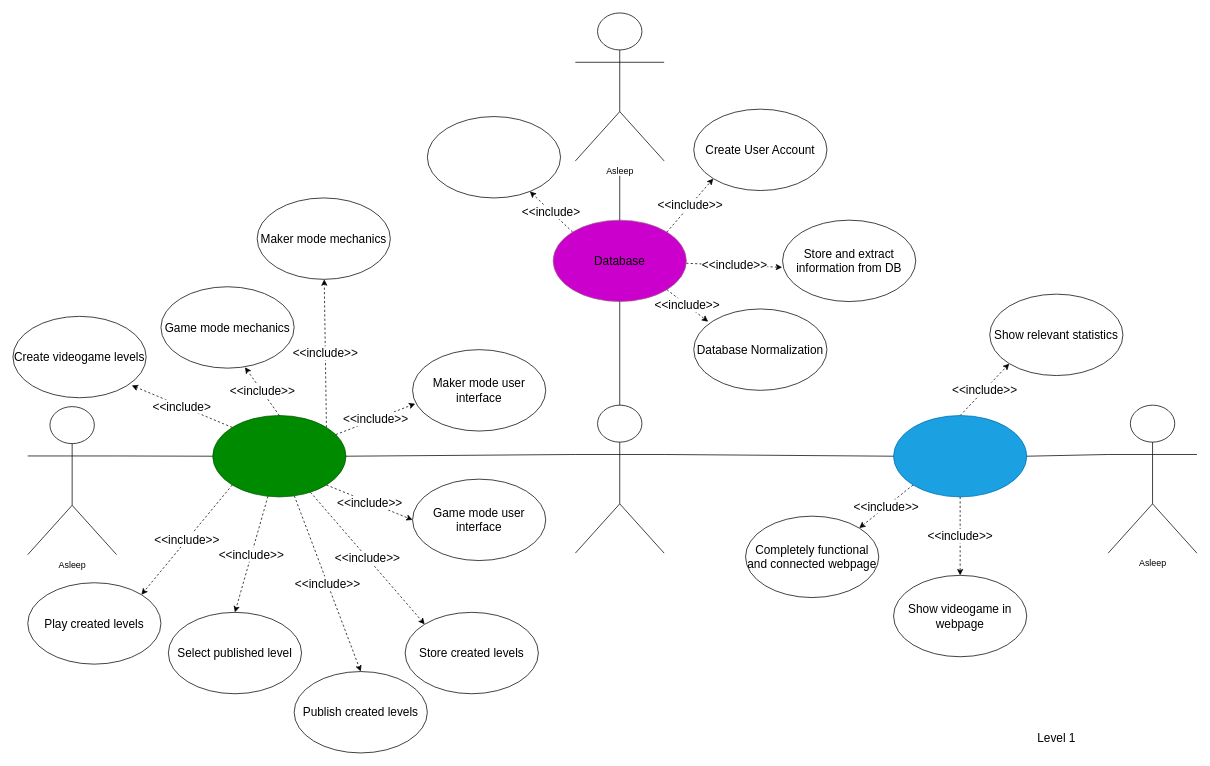
Some shapes in this 1210 by 766 pixel diagram are drawn without their labels. The shapes that lost their labels are listed below. From the top down, each one's centre as x and y in pixels, then its label:
At [494,157]: "Authenticate User".
At [279,456]: "Videogame".
At [960,456]: "Webpage".
At [619,478]: "User".
